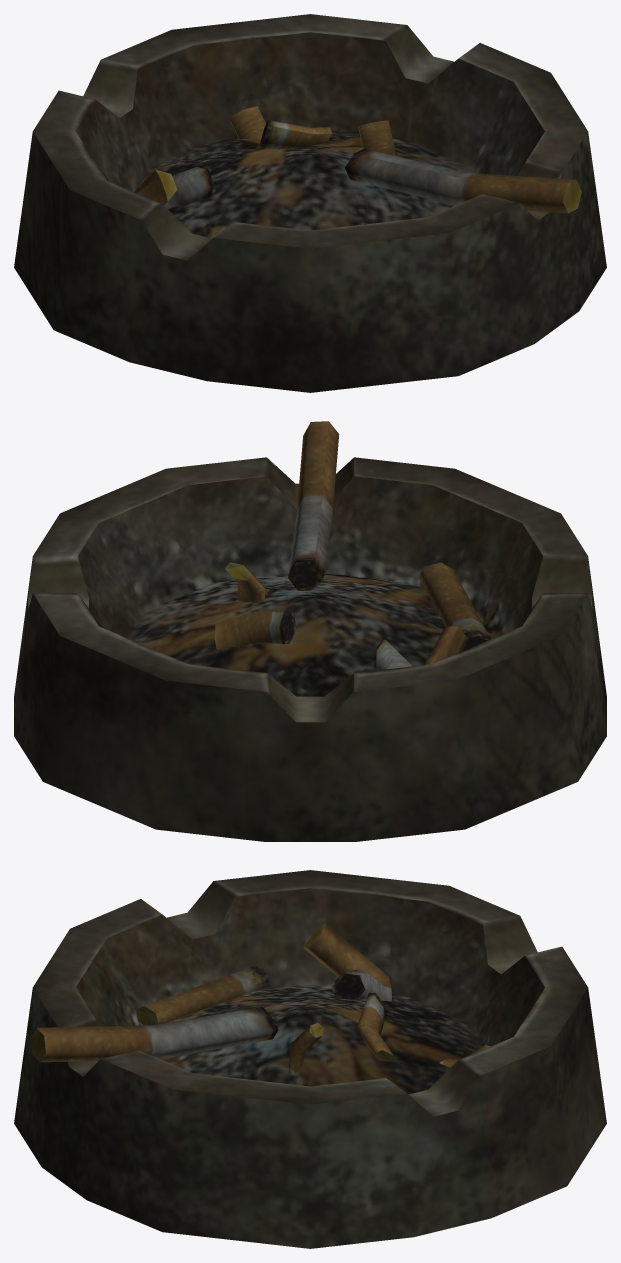
File: ashtray.FBX
3 renders of one model, top to bottom at view 1: azimuth 30°, elevation 25°; view 2: azimuth 150°, elevation 25°; view 3: azimuth 270°, elevation 25°, orthographic. The views are drawn at different scales.
Visible parts, largest first — view 1: ashtray; view 2: ashtray; view 3: ashtray.
Part boxes in pixels (x1,y1,x2,y2): ashtray: (14,14,606,392); ashtray: (14,421,606,841); ashtray: (14,870,606,1248).
Bounding box in the file's own units: 0.1322 × 0.0379 × 0.1322.
